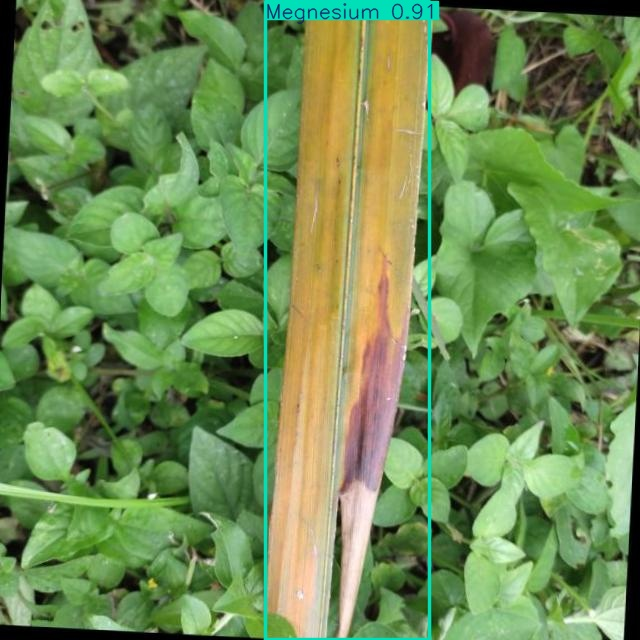Megnesium: (265, 1, 430, 639)
